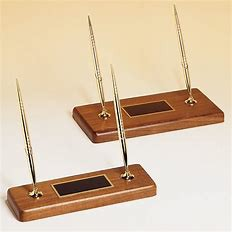pen: (14, 77, 42, 193), (108, 63, 133, 178), (84, 15, 109, 119), (172, 5, 197, 102)
